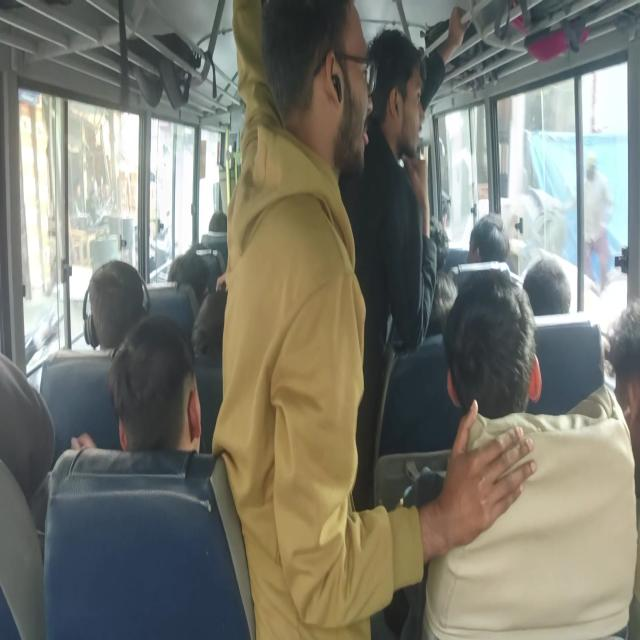person: (284, 0, 389, 202), (454, 287, 530, 458), (106, 320, 192, 456), (365, 39, 438, 180), (0, 376, 59, 494), (588, 329, 640, 448), (528, 250, 580, 344), (83, 270, 141, 350), (403, 266, 446, 346), (196, 288, 236, 370), (408, 210, 452, 277), (477, 220, 510, 283), (170, 251, 209, 304), (431, 183, 456, 229), (188, 244, 217, 272), (205, 207, 224, 235)
